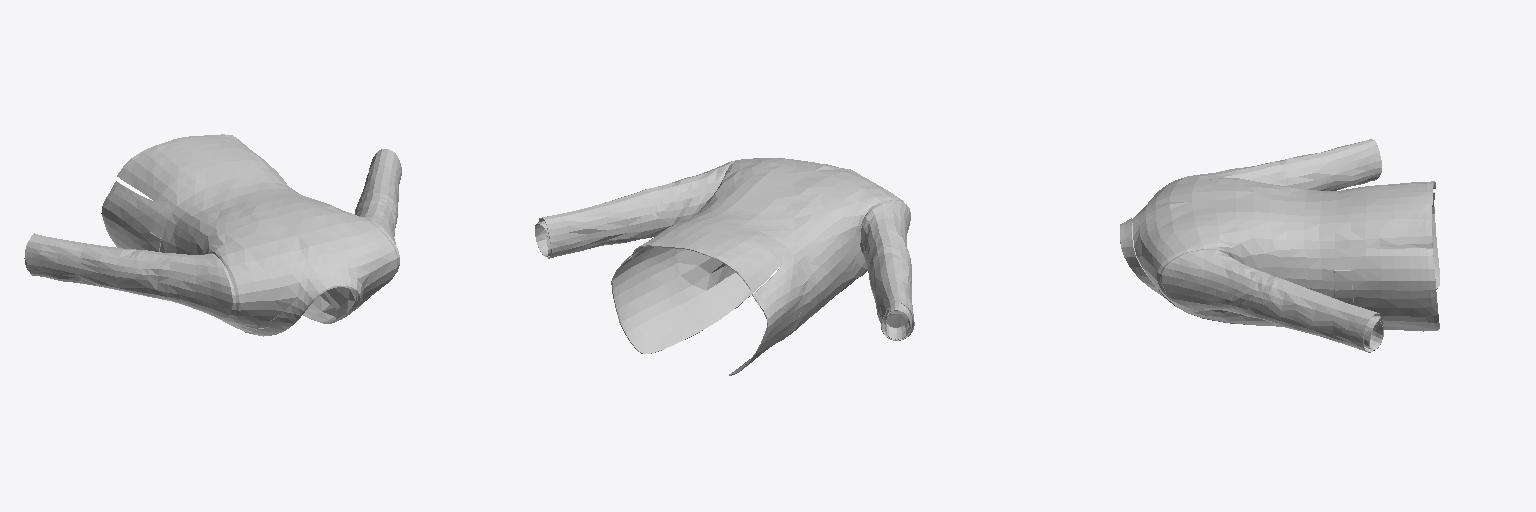
The model's file is uppr_000_u_1.obj.
3 renders of one model, left to right at view 1: azimuth 30°, elevation 25°; view 2: azimuth 150°, elevation 25°; view 3: azimuth 270°, elevation 25°, orthographic.
Bounding box in the file's own units: 1.07 × 0.3413 × 0.7949.